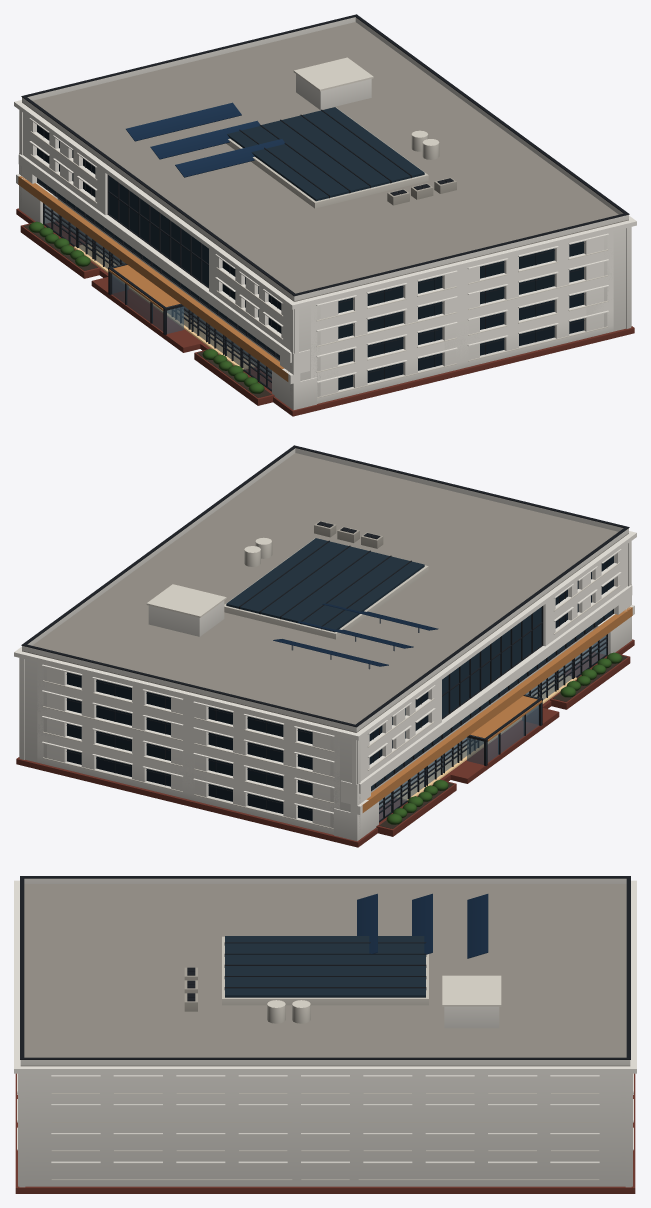
The model's file is central_library.glb.
The picture shows the model from 3 angles, top to bottom: view 1: azimuth 30°, elevation 25°; view 2: azimuth 150°, elevation 25°; view 3: azimuth 270°, elevation 25°; orthographic projection. The views are drawn at different scales.
Visible parts, largest first — view 1: LOD0_High_RoofSlabConcrete, LOD0_High_StuccoWhite, LOD0_High_CurtainGlass, LOD0_High_DarkAnodizedSteel, LOD1_Medium_StuccoWhite, LOD1_Medium_RecessedCavityGlass, LOD0_High_RedGranite, LOD0_High_StuccoWarmTrim, LOD0_High_TimberFascia, LOD0_High_SolarPV, LOD0_High_ClearAtriumGlass, LOD1_Medium_ClearAtriumGlass (+6 smaller); view 2: LOD0_High_RoofSlabConcrete, LOD0_High_StuccoWhite, LOD0_High_CurtainGlass, LOD0_High_DarkAnodizedSteel, LOD1_Medium_StuccoWhite, LOD1_Medium_RecessedCavityGlass, LOD0_High_RedGranite, LOD0_High_StuccoWarmTrim, LOD0_High_TimberFascia, LOD0_High_ClearAtriumGlass, LOD1_Medium_ClearAtriumGlass, LOD0_High_SolarPV (+7 smaller); view 3: LOD0_High_RoofSlabConcrete, LOD0_High_StuccoWhite, LOD0_High_CurtainGlass, LOD0_High_DarkAnodizedSteel, LOD0_High_StuccoWarmTrim, LOD0_High_RedGranite, LOD0_High_SolarPV, LOD1_Medium_StuccoWhite, LOD1_Medium_StuccoWarmTrim.
Part boxes in pixels (bbox=[...]): LOD0_High_RoofSlabConcrete: bbox=[22, 22, 628, 301]; LOD0_High_StuccoWhite: bbox=[14, 17, 636, 410]; LOD0_High_CurtainGlass: bbox=[38, 107, 424, 358]; LOD0_High_DarkAnodizedSteel: bbox=[21, 14, 629, 391]; LOD1_Medium_StuccoWhite: bbox=[19, 117, 631, 407]; LOD1_Medium_RecessedCavityGlass: bbox=[338, 241, 583, 390]; LOD0_High_RedGranite: bbox=[16, 208, 634, 416]; LOD0_High_StuccoWarmTrim: bbox=[30, 57, 608, 398]; LOD0_High_TimberFascia: bbox=[18, 176, 288, 381]; LOD0_High_SolarPV: bbox=[126, 102, 284, 177]; LOD0_High_ClearAtriumGlass: bbox=[44, 204, 271, 389]; LOD1_Medium_ClearAtriumGlass: bbox=[44, 205, 271, 389]; LOD0_High_RoofSlabConcrete: bbox=[22, 453, 628, 732]; LOD0_High_StuccoWhite: bbox=[14, 448, 636, 841]; LOD0_High_CurtainGlass: bbox=[226, 538, 612, 789]; LOD0_High_DarkAnodizedSteel: bbox=[21, 445, 629, 822]; LOD1_Medium_StuccoWhite: bbox=[19, 541, 631, 838]; LOD1_Medium_RecessedCavityGlass: bbox=[67, 672, 312, 821]; LOD0_High_RedGranite: bbox=[16, 639, 634, 847]; LOD0_High_StuccoWarmTrim: bbox=[42, 537, 620, 829]; LOD0_High_TimberFascia: bbox=[362, 607, 632, 812]; LOD0_High_ClearAtriumGlass: bbox=[379, 635, 606, 820]; LOD1_Medium_ClearAtriumGlass: bbox=[379, 636, 606, 820]; LOD0_High_SolarPV: bbox=[273, 603, 438, 666]; LOD0_High_RoofSlabConcrete: bbox=[21, 884, 629, 1066]; LOD0_High_StuccoWhite: bbox=[14, 878, 636, 1187]; LOD0_High_CurtainGlass: bbox=[225, 936, 425, 997]; LOD0_High_DarkAnodizedSteel: bbox=[20, 876, 630, 1059]; LOD0_High_StuccoWarmTrim: bbox=[51, 936, 599, 1180]; LOD0_High_RedGranite: bbox=[15, 1073, 635, 1193]; LOD0_High_SolarPV: bbox=[357, 893, 488, 958]; LOD1_Medium_StuccoWhite: bbox=[18, 1073, 632, 1186]; LOD1_Medium_StuccoWarmTrim: bbox=[87, 1122, 563, 1180].
Size of the model in its own units: 52.51 by 18.61 by 69.88.
